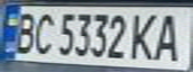2: (106, 10, 133, 60)
3: (90, 10, 112, 60), (72, 10, 93, 58)
5: (54, 9, 78, 57)
A: (148, 9, 190, 63)
B: (6, 9, 42, 55)
C: (30, 9, 57, 56)
K: (127, 9, 163, 61)
